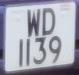1: (16, 35, 28, 71), (21, 35, 33, 71)
3: (31, 36, 49, 67)
9: (46, 34, 65, 66)
D: (41, 5, 59, 39)
W: (25, 7, 43, 40)
